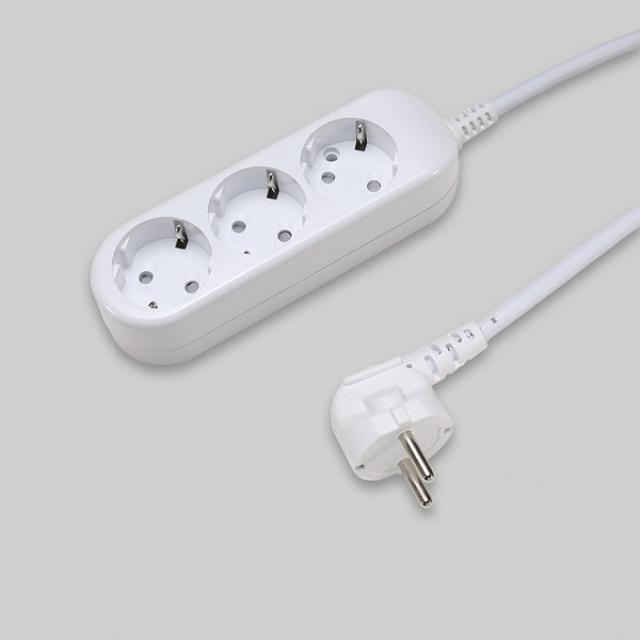typeb: (61, 66, 499, 344)
